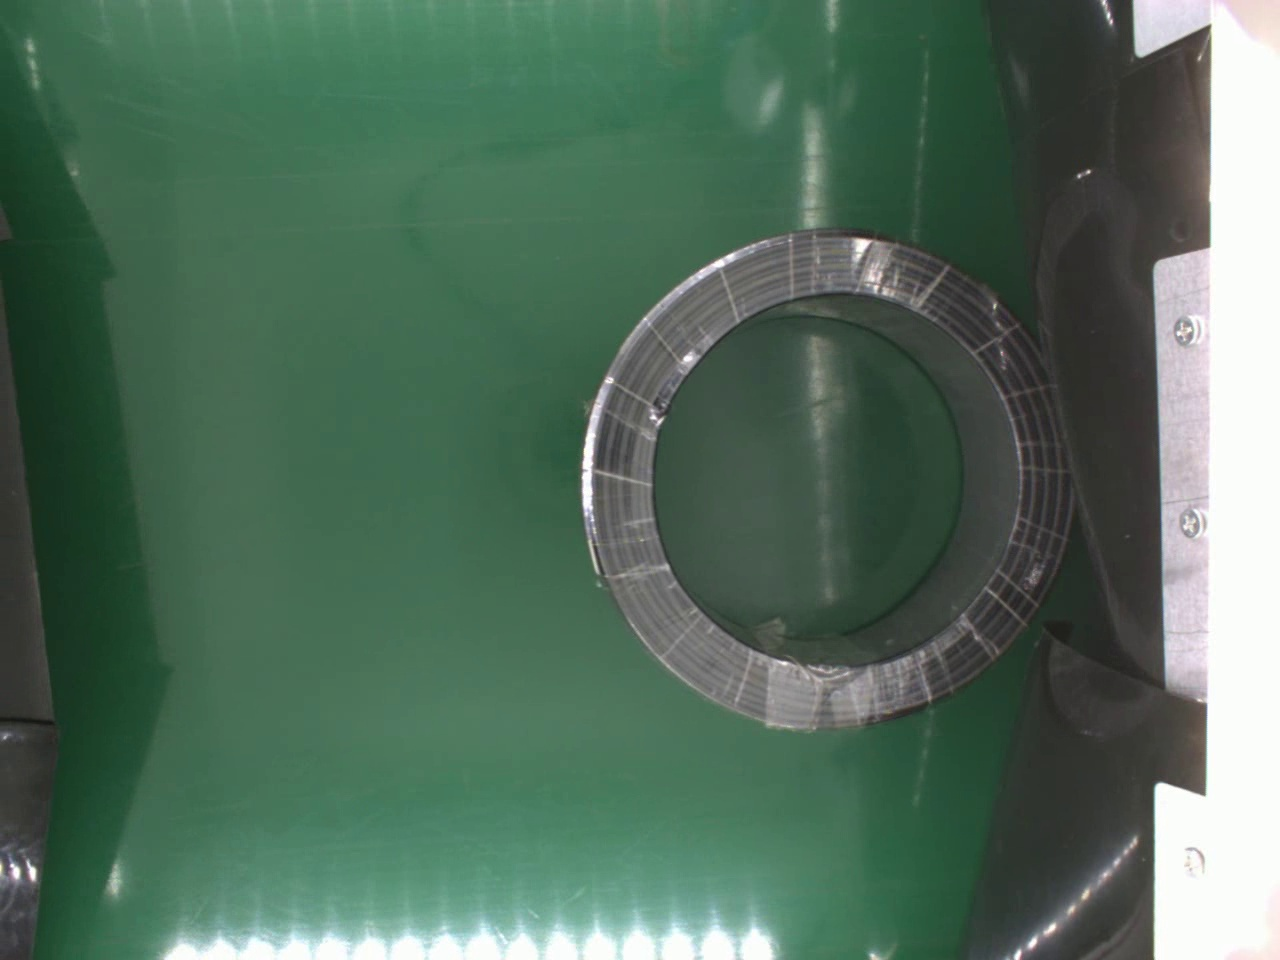black: (583, 226, 1076, 739)
